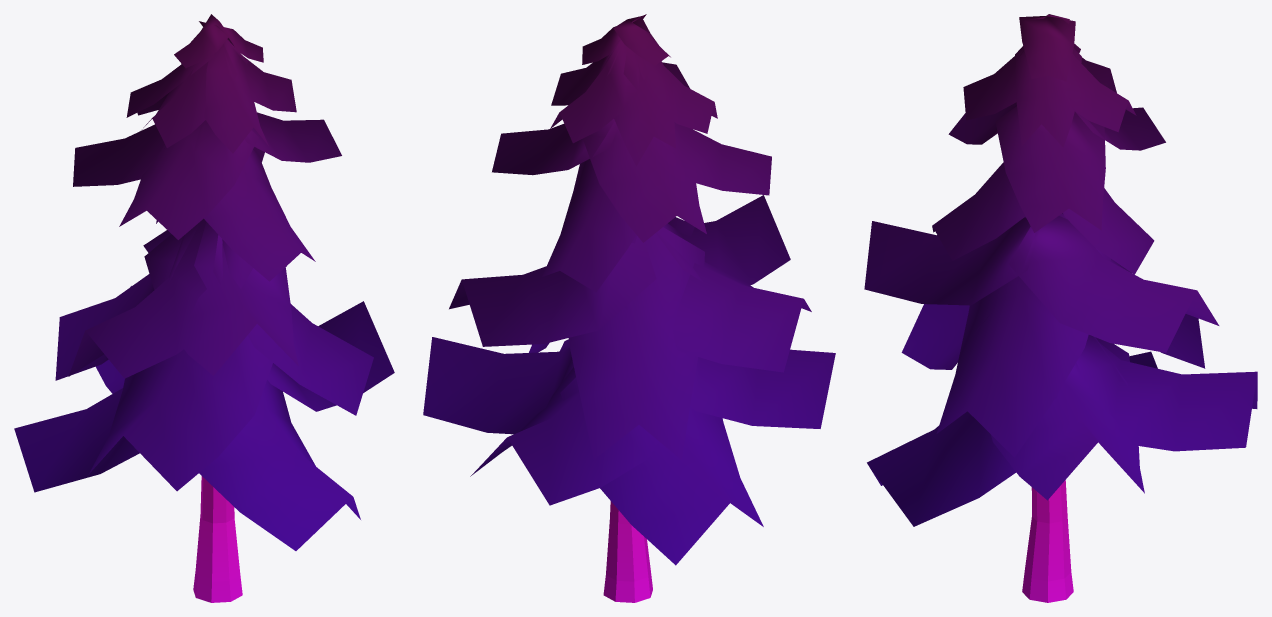
File: synty-tree-pine-small-02.gltf
3 renders of one model, left to right at view 1: azimuth 30°, elevation 25°; view 2: azimuth 150°, elevation 25°; view 3: azimuth 270°, elevation 25°, orthographic.
Visible parts, largest first — view 1: SM_Tree_Pine_Small_02; view 2: SM_Tree_Pine_Small_02; view 3: SM_Tree_Pine_Small_02.
Part boxes in pixels (bbox=[...]): SM_Tree_Pine_Small_02: bbox=[14, 14, 394, 602]; SM_Tree_Pine_Small_02: bbox=[423, 14, 835, 602]; SM_Tree_Pine_Small_02: bbox=[864, 14, 1257, 602].
Size of the model in its own units: 1.91 by 3.1 by 1.91.
